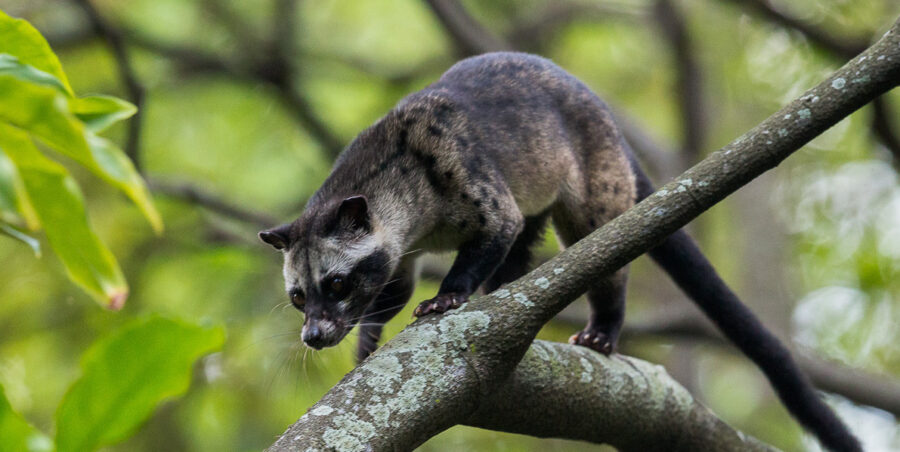Civet: (255, 34, 696, 352)
